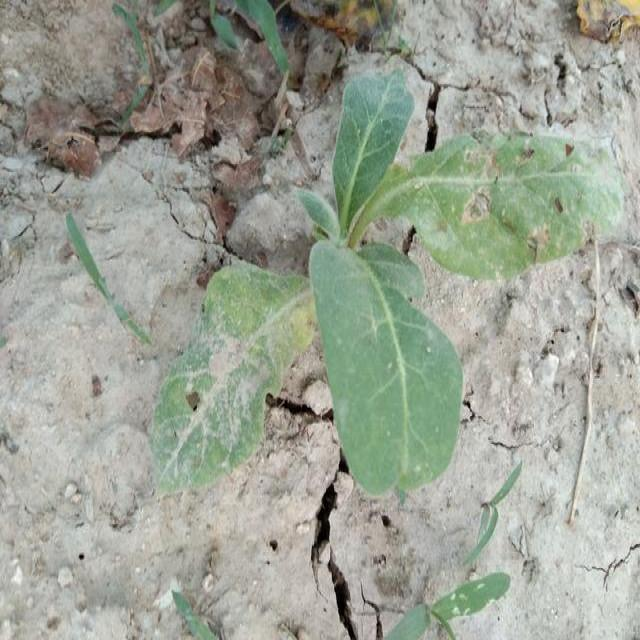crop: (149, 75, 640, 503)
